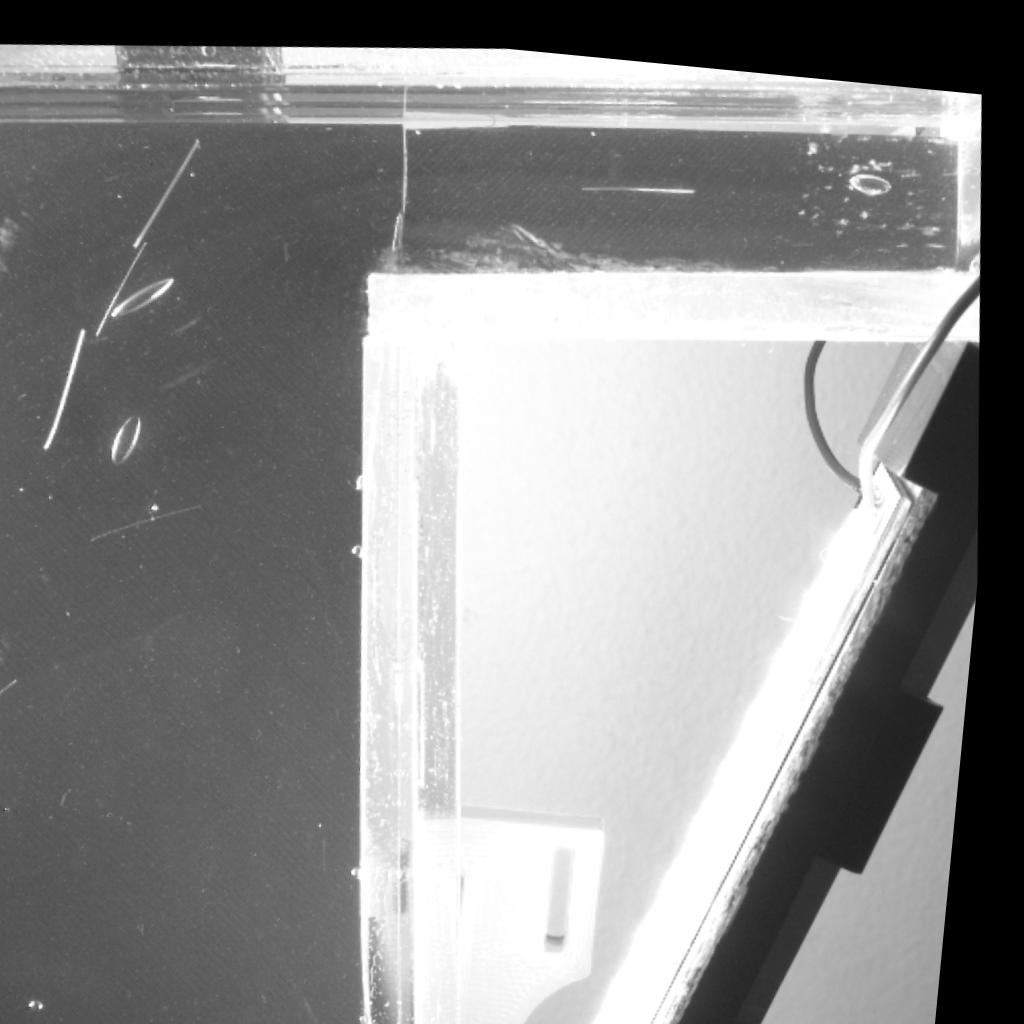Fiber: (133, 121, 207, 250), (50, 324, 93, 454), (97, 236, 154, 334), (100, 497, 211, 538), (586, 168, 696, 180), (0, 673, 35, 705)
